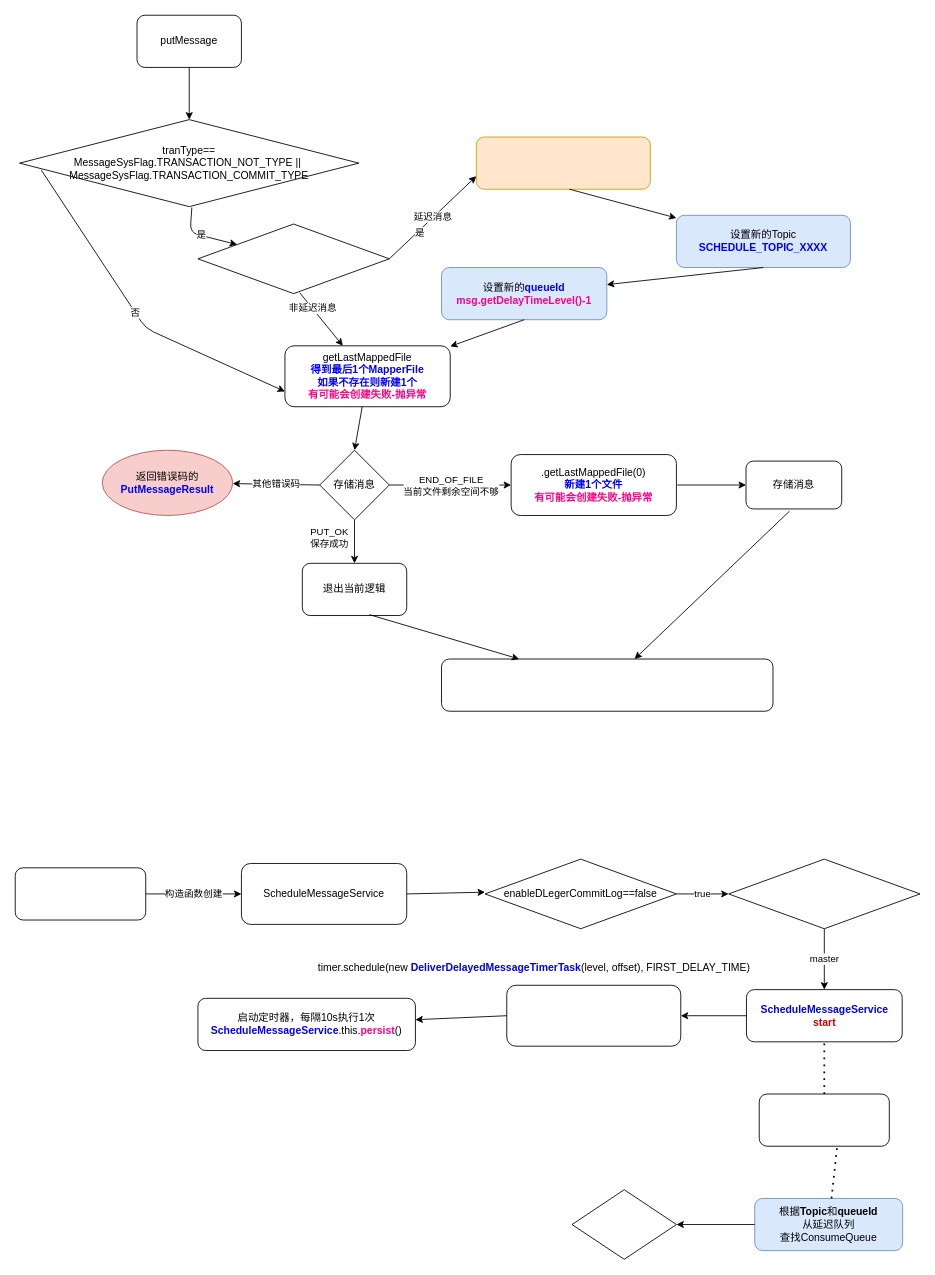
Image size: 935x1275. Some labels were removed from this diagram. The shapes that lost their labels are listed below. From the top down, each one's box as (x1, y1, x2, y2) in pixels, then its label:
(475, 136, 650, 189): 备份以前的Topic和queueId 到msg的properties中
(197, 223, 389, 294): msg.getDelayTimeLevel() >0
(441, 658, 773, 711): 返回 new PutMessageResult (PutMessageStatus.PUT_OK, result)
(14, 867, 146, 920): DefaultMessageStore
(728, 858, 920, 929): 是否MASTER
(506, 984, 681, 1046): 启动只执行1次 DeliverDelayedMessageTimerTask
(758, 1093, 889, 1146): executeOnTimeup
(571, 1189, 676, 1259): 循环每次读20字节
